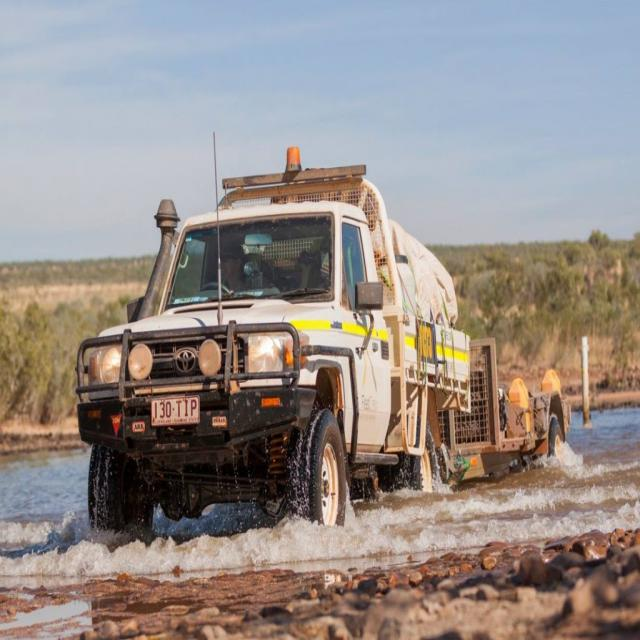light_vehicle: (69, 166, 516, 560)
